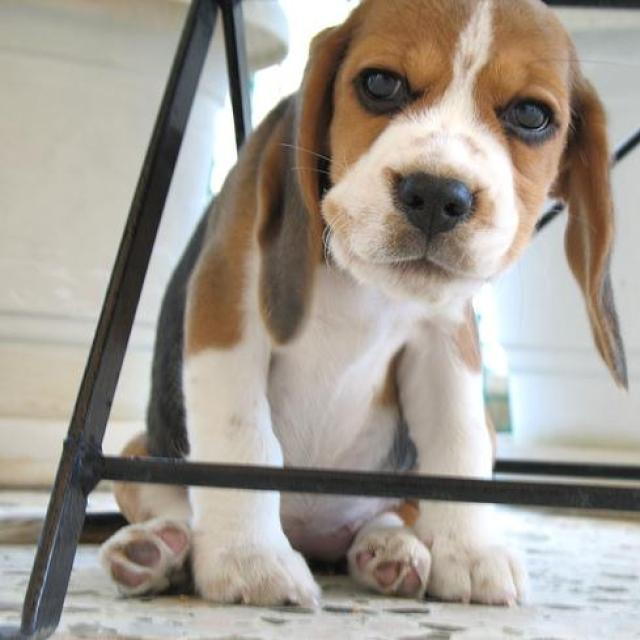beagle: (95, 1, 631, 608)
